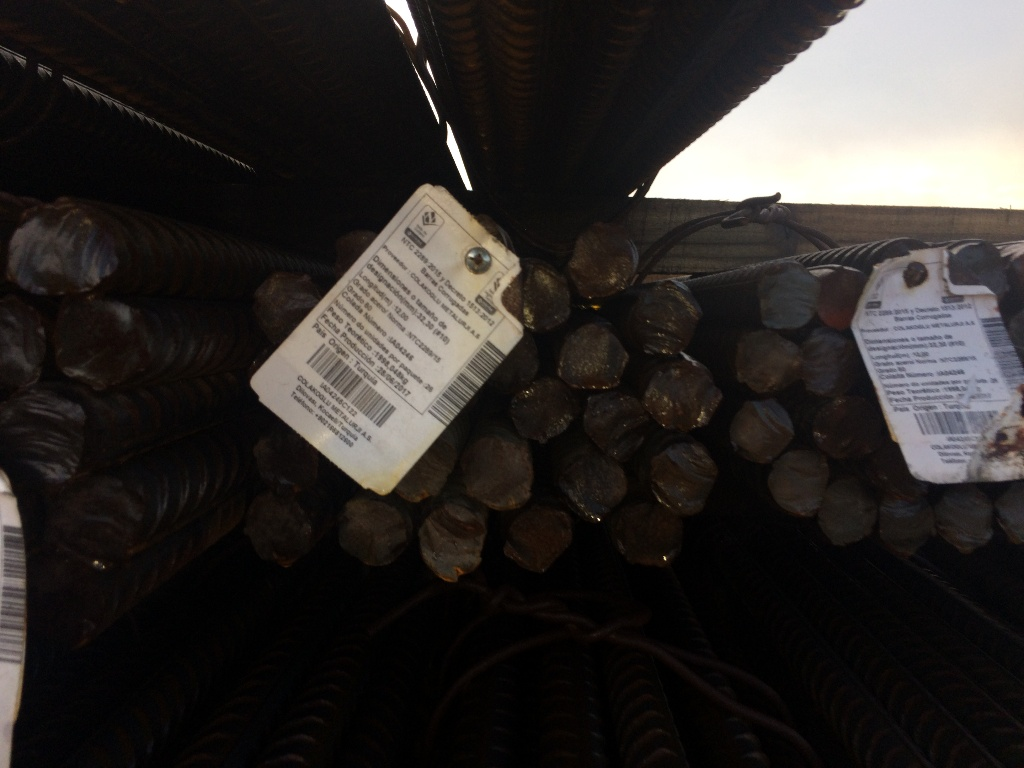dipstick: (9, 210, 118, 296), (56, 300, 142, 387), (6, 394, 85, 480), (30, 561, 106, 649), (56, 482, 134, 560), (419, 509, 485, 582), (648, 363, 721, 429), (463, 438, 530, 508), (571, 224, 634, 297), (247, 495, 313, 563), (651, 444, 716, 513), (633, 284, 696, 355), (557, 329, 630, 388), (502, 511, 569, 574), (256, 270, 318, 338), (338, 499, 406, 560), (816, 398, 882, 460), (1, 304, 47, 391), (736, 332, 801, 393), (585, 391, 645, 455), (730, 401, 792, 462), (760, 269, 820, 331), (616, 508, 682, 564), (800, 336, 859, 396), (255, 435, 319, 490), (821, 479, 875, 544), (771, 452, 826, 514), (878, 492, 932, 553), (943, 488, 994, 552), (401, 442, 454, 502), (568, 464, 625, 519), (514, 384, 568, 442), (954, 240, 1008, 297), (821, 267, 865, 329), (523, 264, 566, 325), (490, 338, 535, 391), (997, 486, 1024, 544)
